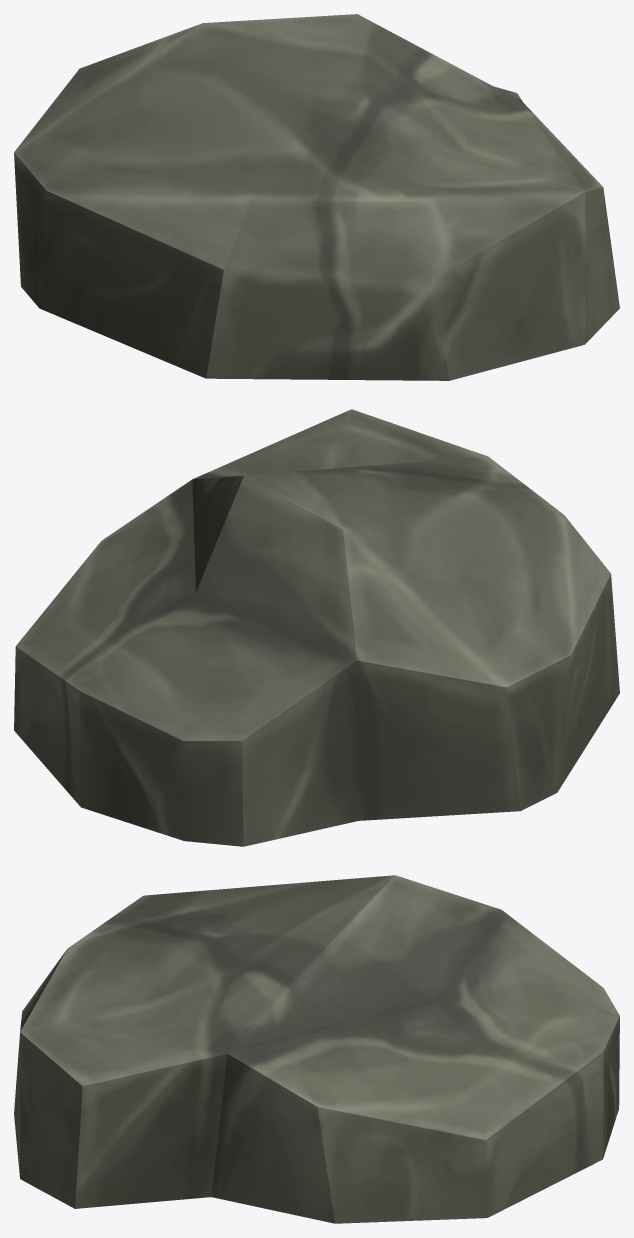
File: Rock_08.fbx
3 renders of one model, top to bottom at view 1: azimuth 30°, elevation 25°; view 2: azimuth 150°, elevation 25°; view 3: azimuth 270°, elevation 25°, orthographic. The views are drawn at different scales.
Visible parts, largest first — view 1: polySurface568; view 2: polySurface568; view 3: polySurface568.
Part boxes in pixels (box(x1,y1,x2,y2)): polySurface568: box(14, 14, 619, 380); polySurface568: box(14, 409, 619, 846); polySurface568: box(14, 875, 619, 1223).
Bounding box in the file's own units: 74.13 × 33.82 × 85.96.
1 material, 1 textured.
